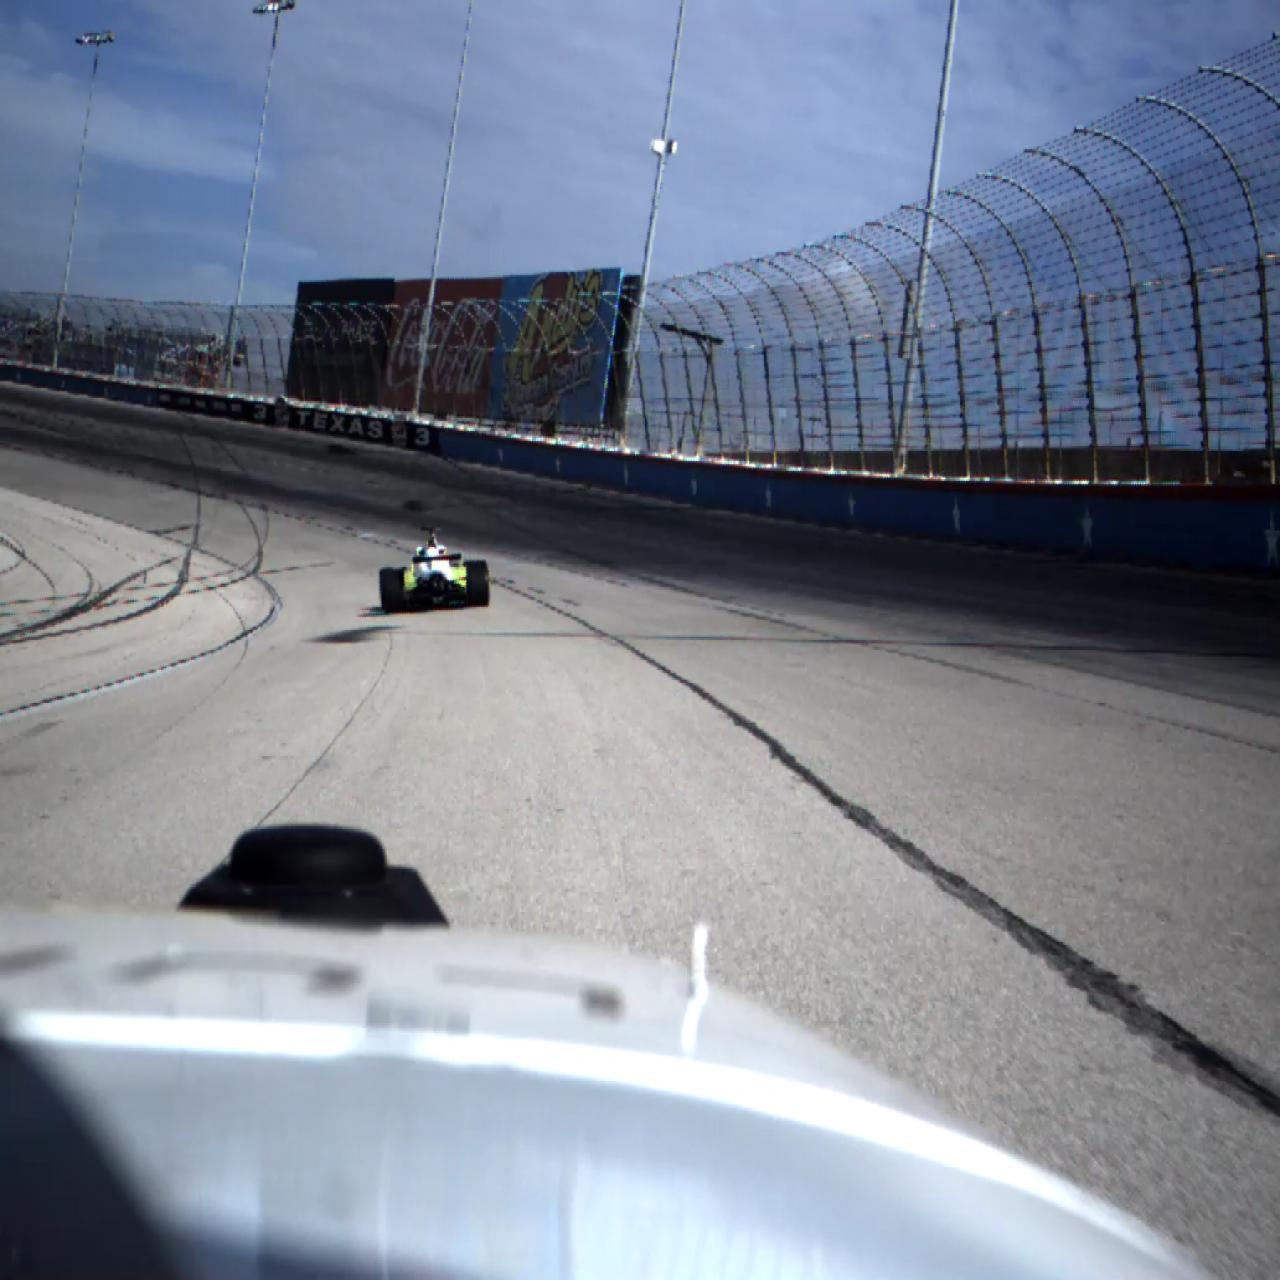AV: (380, 524, 490, 615)
Wheel: (465, 559, 490, 607), (381, 568, 403, 615)
